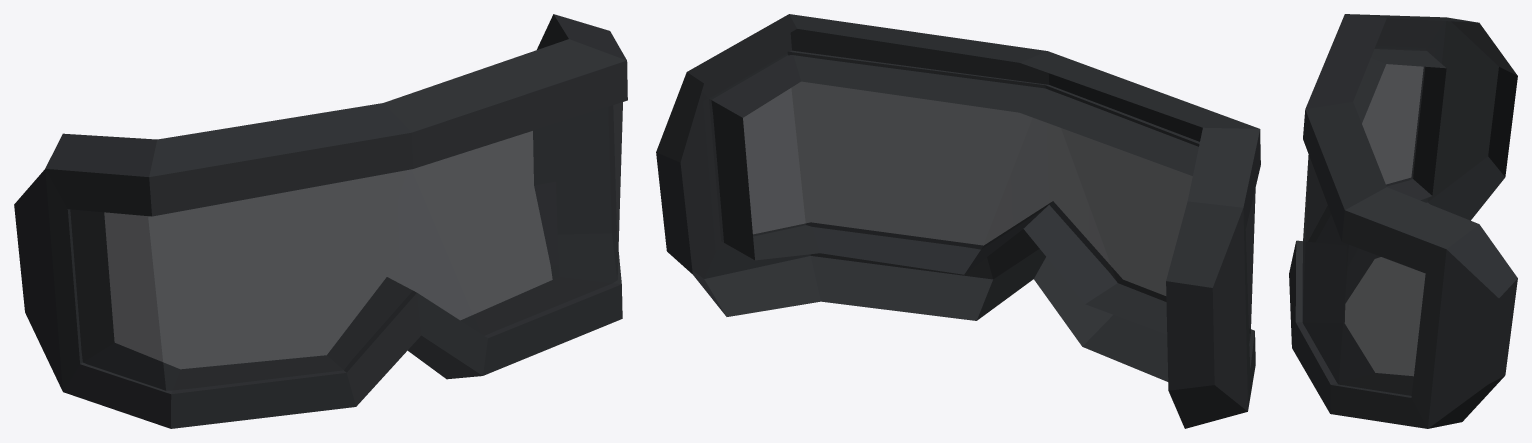
The model's file is SM_Chr_Attach_Goggles_01.fbx.
3 views of the same model, side by side, from view 1: azimuth 30°, elevation 25°; view 2: azimuth 150°, elevation 25°; view 3: azimuth 270°, elevation 25° (orthographic). The views are drawn at different scales.
Parts seen in each view (by area): view 1: SM_Chr_Attach_Goggles_01, SM_Chr_Attach_Goggles_01_Glass; view 2: SM_Chr_Attach_Goggles_01, SM_Chr_Attach_Goggles_01_Glass; view 3: SM_Chr_Attach_Goggles_01, SM_Chr_Attach_Goggles_01_Glass.
Part boxes in pixels (bbox=[...]): SM_Chr_Attach_Goggles_01: bbox=[14, 14, 627, 428]; SM_Chr_Attach_Goggles_01_Glass: bbox=[70, 102, 622, 390]; SM_Chr_Attach_Goggles_01: bbox=[656, 14, 1260, 428]; SM_Chr_Attach_Goggles_01_Glass: bbox=[703, 51, 1255, 342]; SM_Chr_Attach_Goggles_01: bbox=[1289, 14, 1517, 428]; SM_Chr_Attach_Goggles_01_Glass: bbox=[1302, 46, 1435, 395].
Size of the model in its own units: 24.05 by 11.48 by 10.04.
